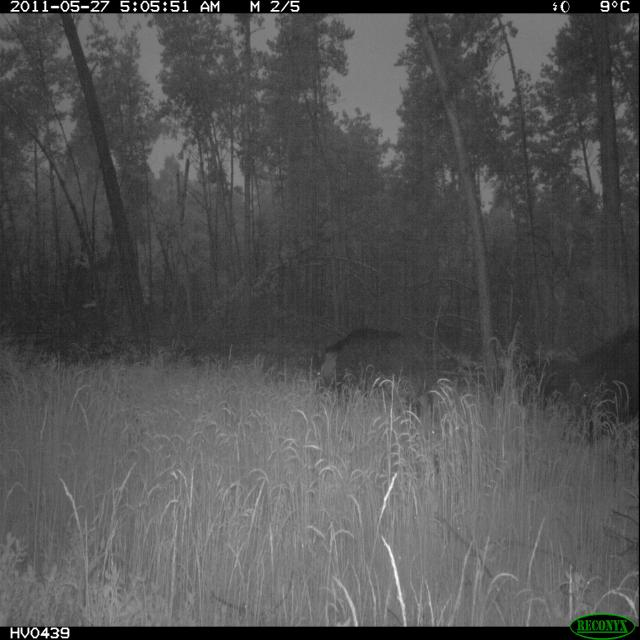boar: (285, 279, 472, 421), (539, 304, 640, 500)
